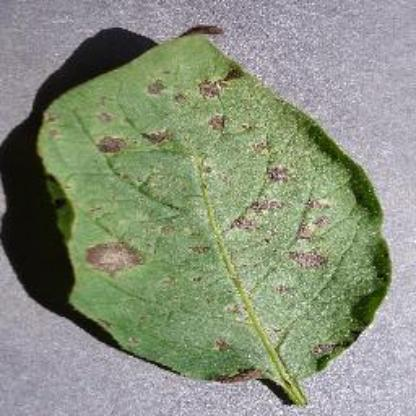Early-Blight: (29, 20, 395, 408)
